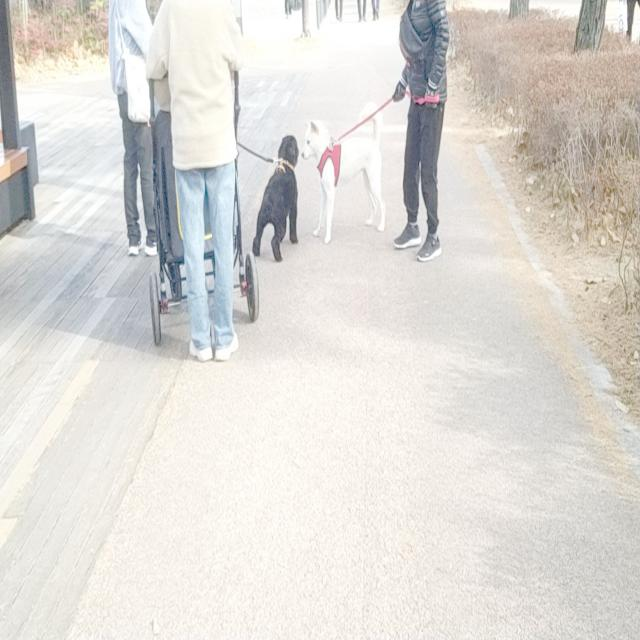Leashed_Dog: (301, 87, 422, 246), (195, 135, 300, 262)
